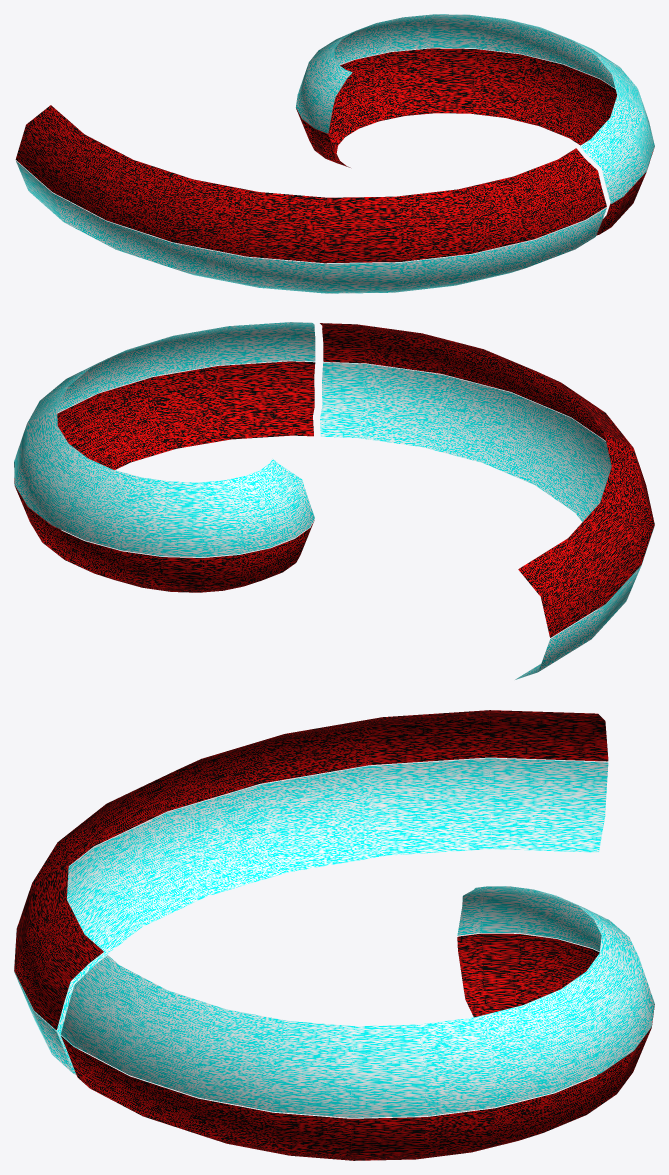
Rendered from SM_Helix_06_HJS.fbx.
The picture shows the model from 3 angles, top to bottom: view 1: azimuth 30°, elevation 25°; view 2: azimuth 150°, elevation 25°; view 3: azimuth 270°, elevation 25°; orthographic projection. The views are drawn at different scales.
Parts seen in each view (by area): view 1: SM_Helix_06_HJS; view 2: SM_Helix_06_HJS; view 3: SM_Helix_06_HJS.
Part boxes in pixels (left/top/right/bottom): SM_Helix_06_HJS: left=15, top=14, right=654, bottom=293; SM_Helix_06_HJS: left=14, top=322, right=654, bottom=679; SM_Helix_06_HJS: left=14, top=710, right=654, bottom=1160.
Bounding box in the file's own units: 174 × 31.23 × 130.
